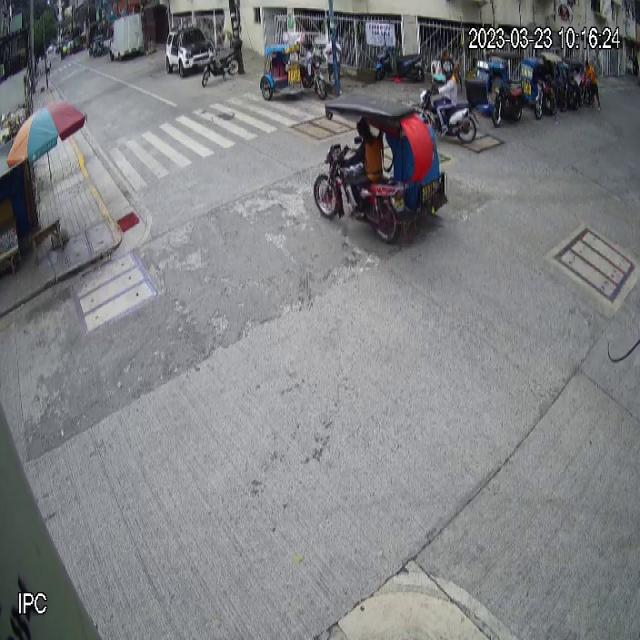Tricycle: (312, 95, 448, 245), (260, 28, 328, 102), (476, 51, 525, 128)
